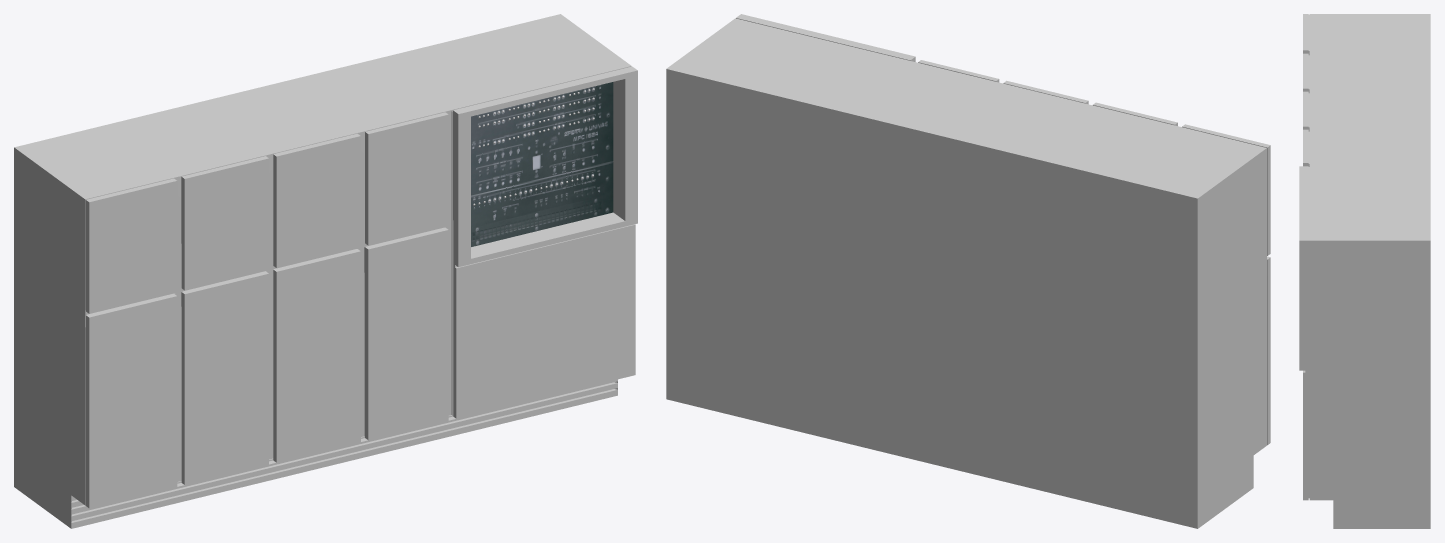
Rendered from Univac_Armoire_Serveurs.glb.
The picture shows the model from 3 angles, left to right: view 1: azimuth 30°, elevation 25°; view 2: azimuth 150°, elevation 25°; view 3: azimuth 270°, elevation 25°; orthographic projection. The views are drawn at different scales.
Visible parts, largest first — view 1: Plane.002; view 2: Plane.002; view 3: Plane.002.
Part boxes in pixels (x1,y1,x2,y2): Plane.002: (14,14,637,528); Plane.002: (666,14,1270,528); Plane.002: (1299,14,1430,528).
Bounding box in the file's own units: 3.97 × 2.36 × 0.9696.
2 materials, 1 textured.
